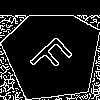F: (27, 28, 81, 81)
